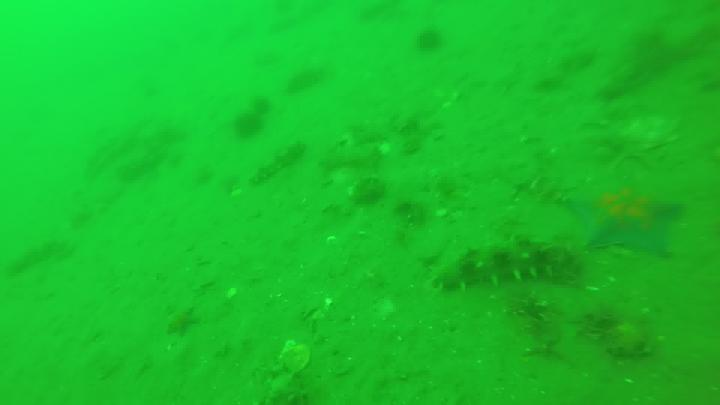holothurian: (417, 240, 583, 293), (242, 142, 304, 181)
scallop: (277, 339, 313, 372)
starfish: (571, 174, 685, 260)
